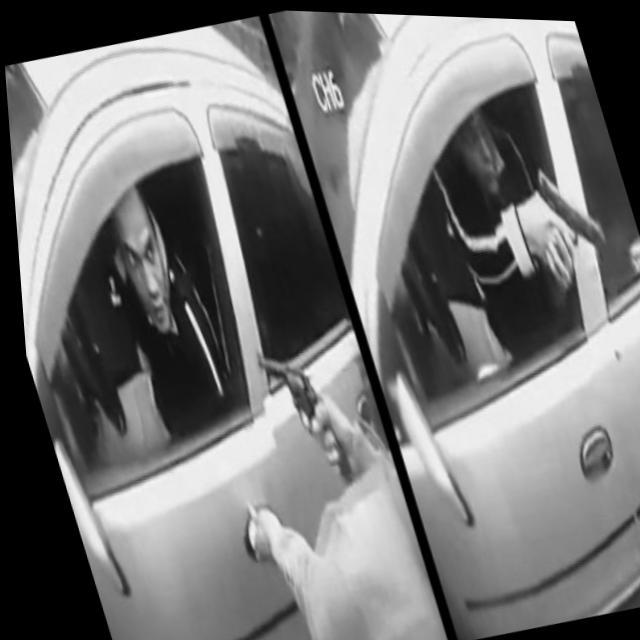weapon: (246, 335, 348, 492), (530, 152, 608, 260)
